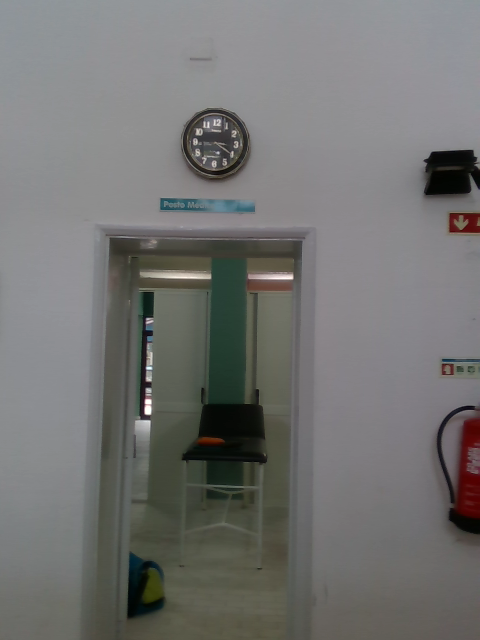open: (86, 230, 317, 639)
